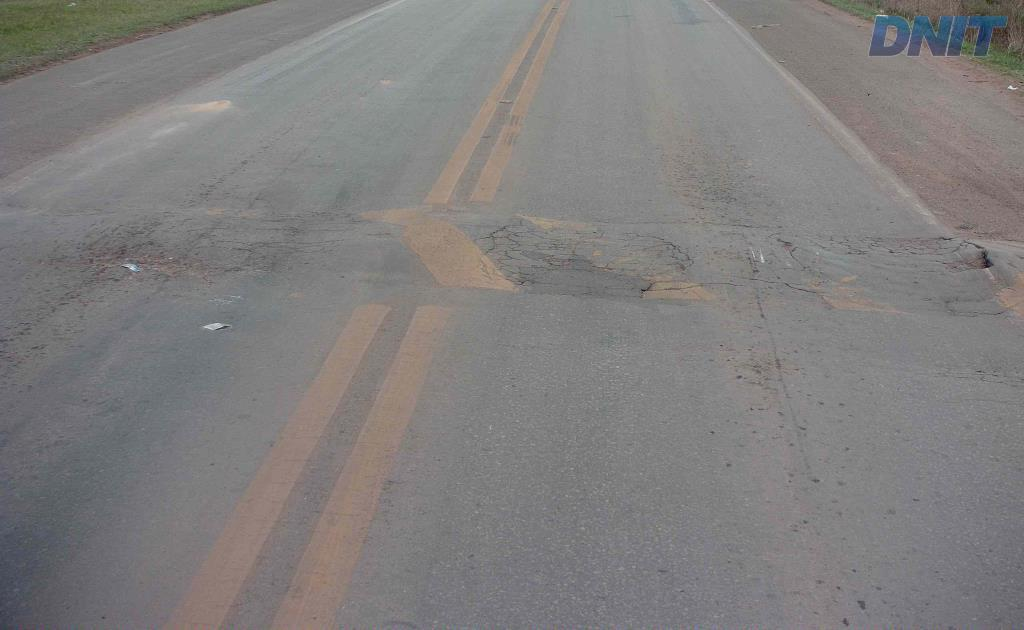crack: (652, 236, 694, 274), (902, 236, 954, 255)
pothole: (940, 248, 992, 272)
